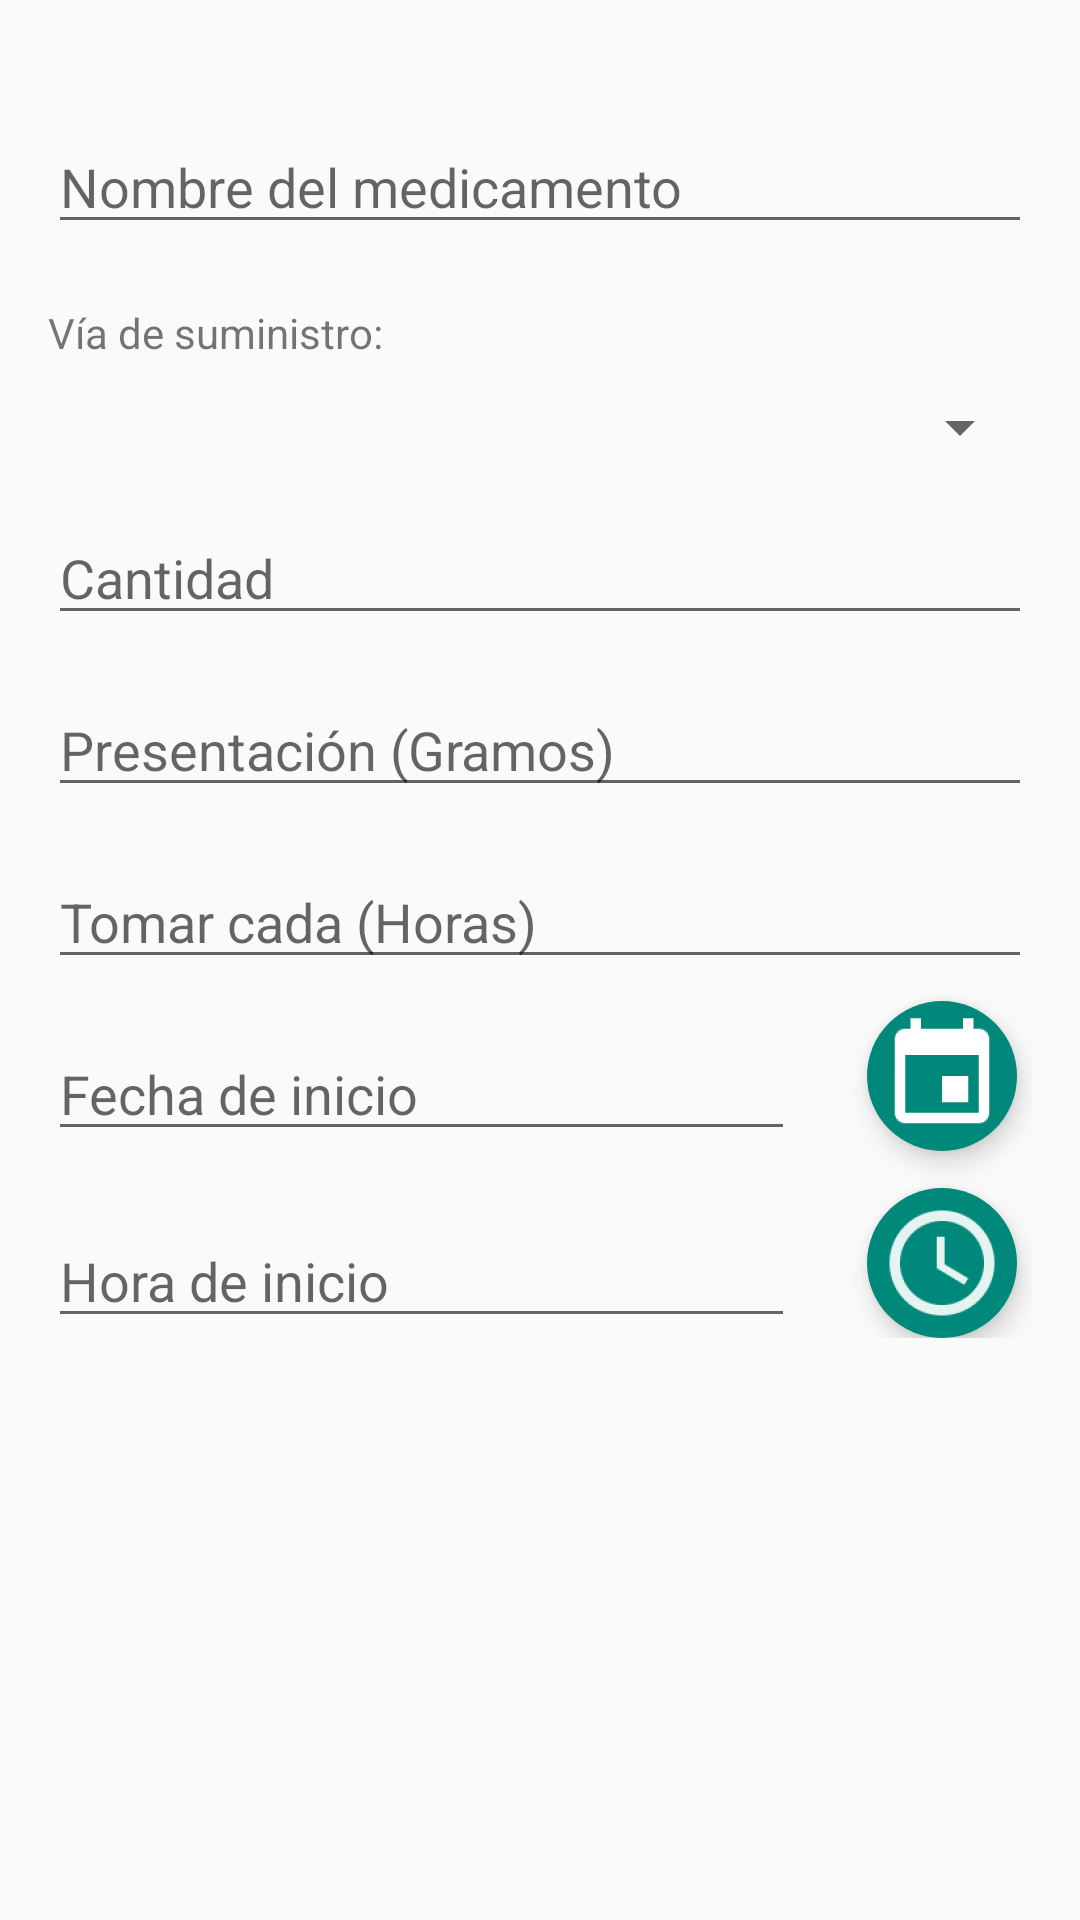

Where icons sit on this 1080px×1920px app screen, as (x1, y1, x2, y2):
acces time: (867, 1188, 1017, 1338)
calendar: (867, 1001, 1017, 1151)
